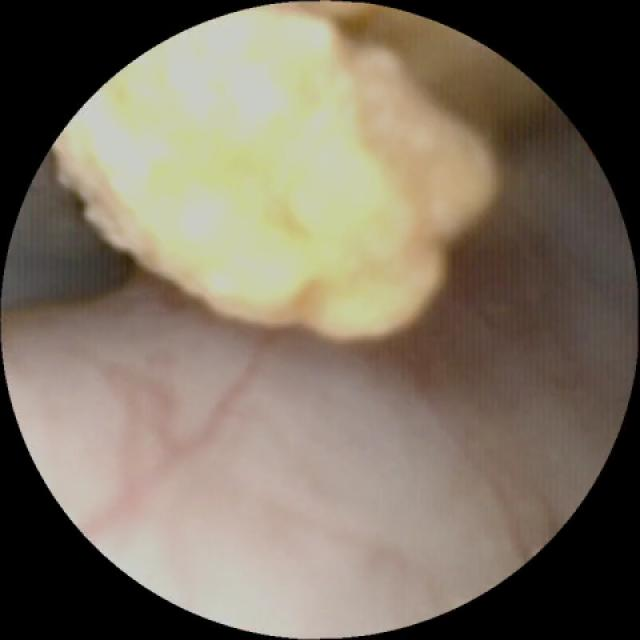stone: (58, 8, 499, 336)
